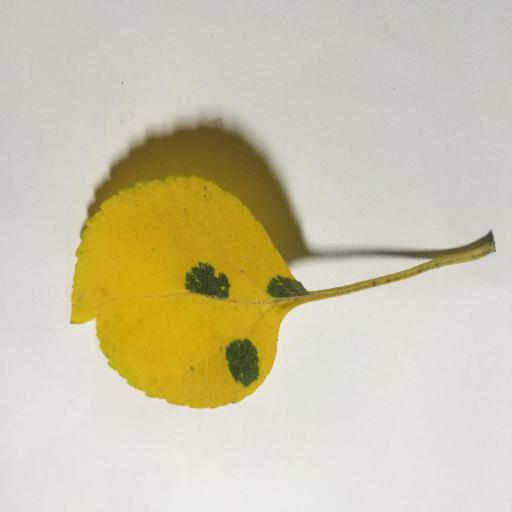Brown_Spot: (224, 336, 262, 383), (193, 269, 228, 299), (268, 280, 329, 297)
